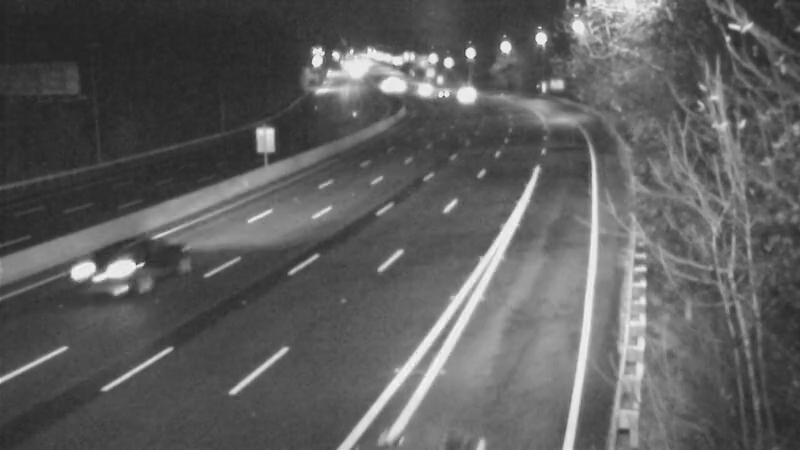vehicle: (68, 225, 148, 305), (358, 58, 408, 108), (394, 61, 444, 111), (411, 70, 461, 120), (435, 70, 485, 120)
